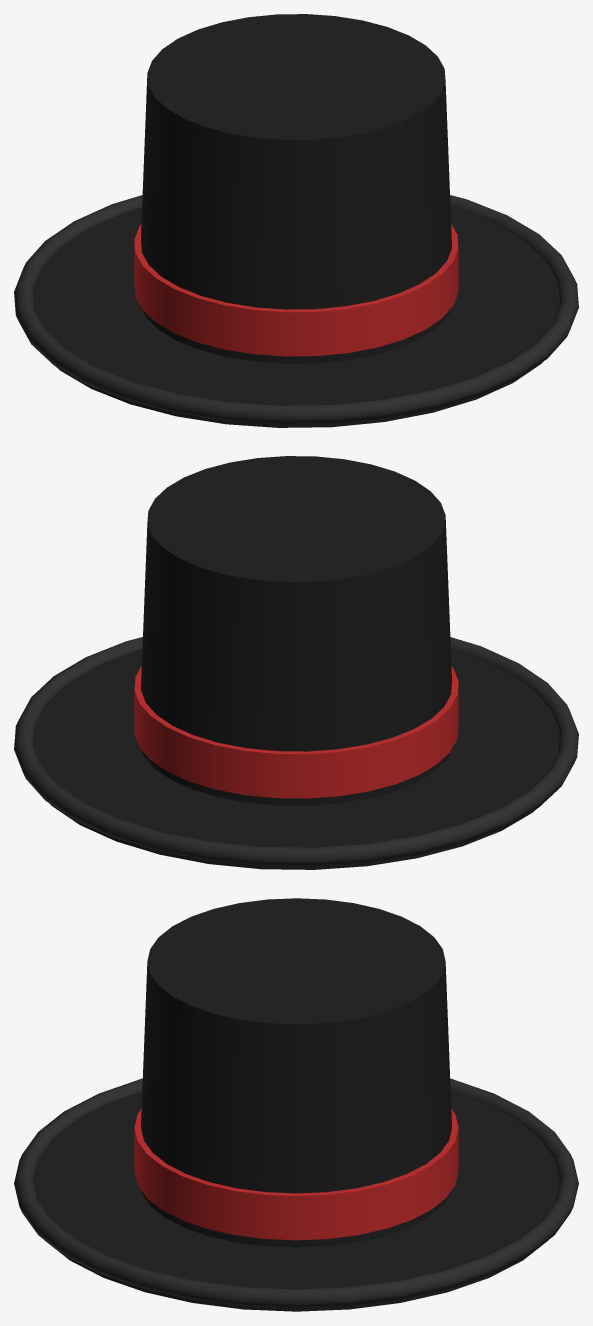
The model's file is hat.glb.
3 views of the same model, one above another, from view 1: azimuth 30°, elevation 25°; view 2: azimuth 150°, elevation 25°; view 3: azimuth 270°, elevation 25° (orthographic).
Visible parts, largest first — view 1: hat; view 2: hat; view 3: hat.
Boxes of the visible parts, x1,y1,x2,y2 form: hat: [14, 14, 578, 427]; hat: [14, 456, 578, 869]; hat: [14, 898, 578, 1311].
Size of the model in its own units: 1.97 by 0.905 by 1.97.
